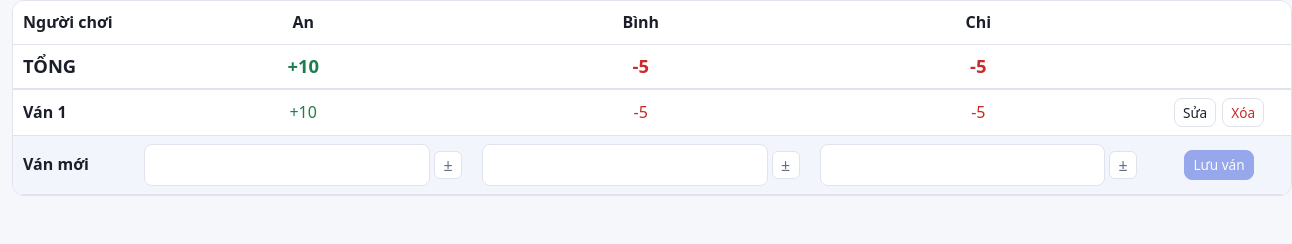
Test: ScoreTable editing a round › says the round was deleted elsewhere when saving gets a 404
This screenshot has width=1292, height=244.
Click the button "Sửa" at (1195, 113), box [1174,98,1216,127]
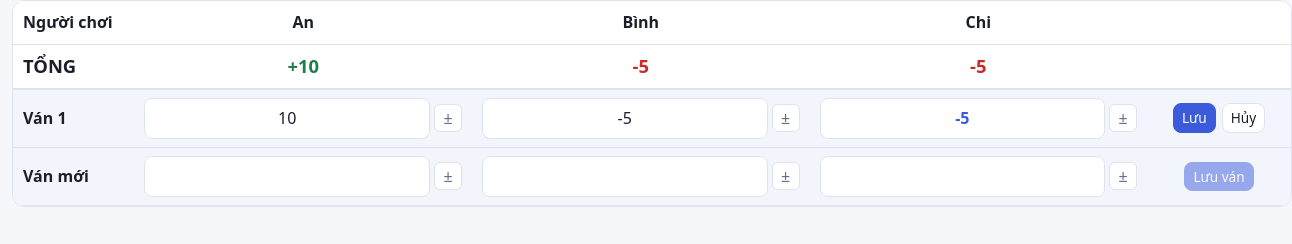
Click the button "Lưu" at (1194, 118), box [1173,103,1216,133]
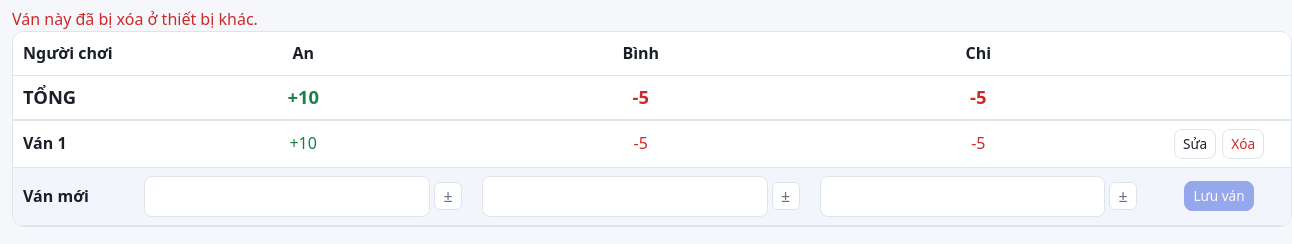
Result: the message shows "Ván này đã bị xóa ở thiết bị khác" at [12,8,258,30]
